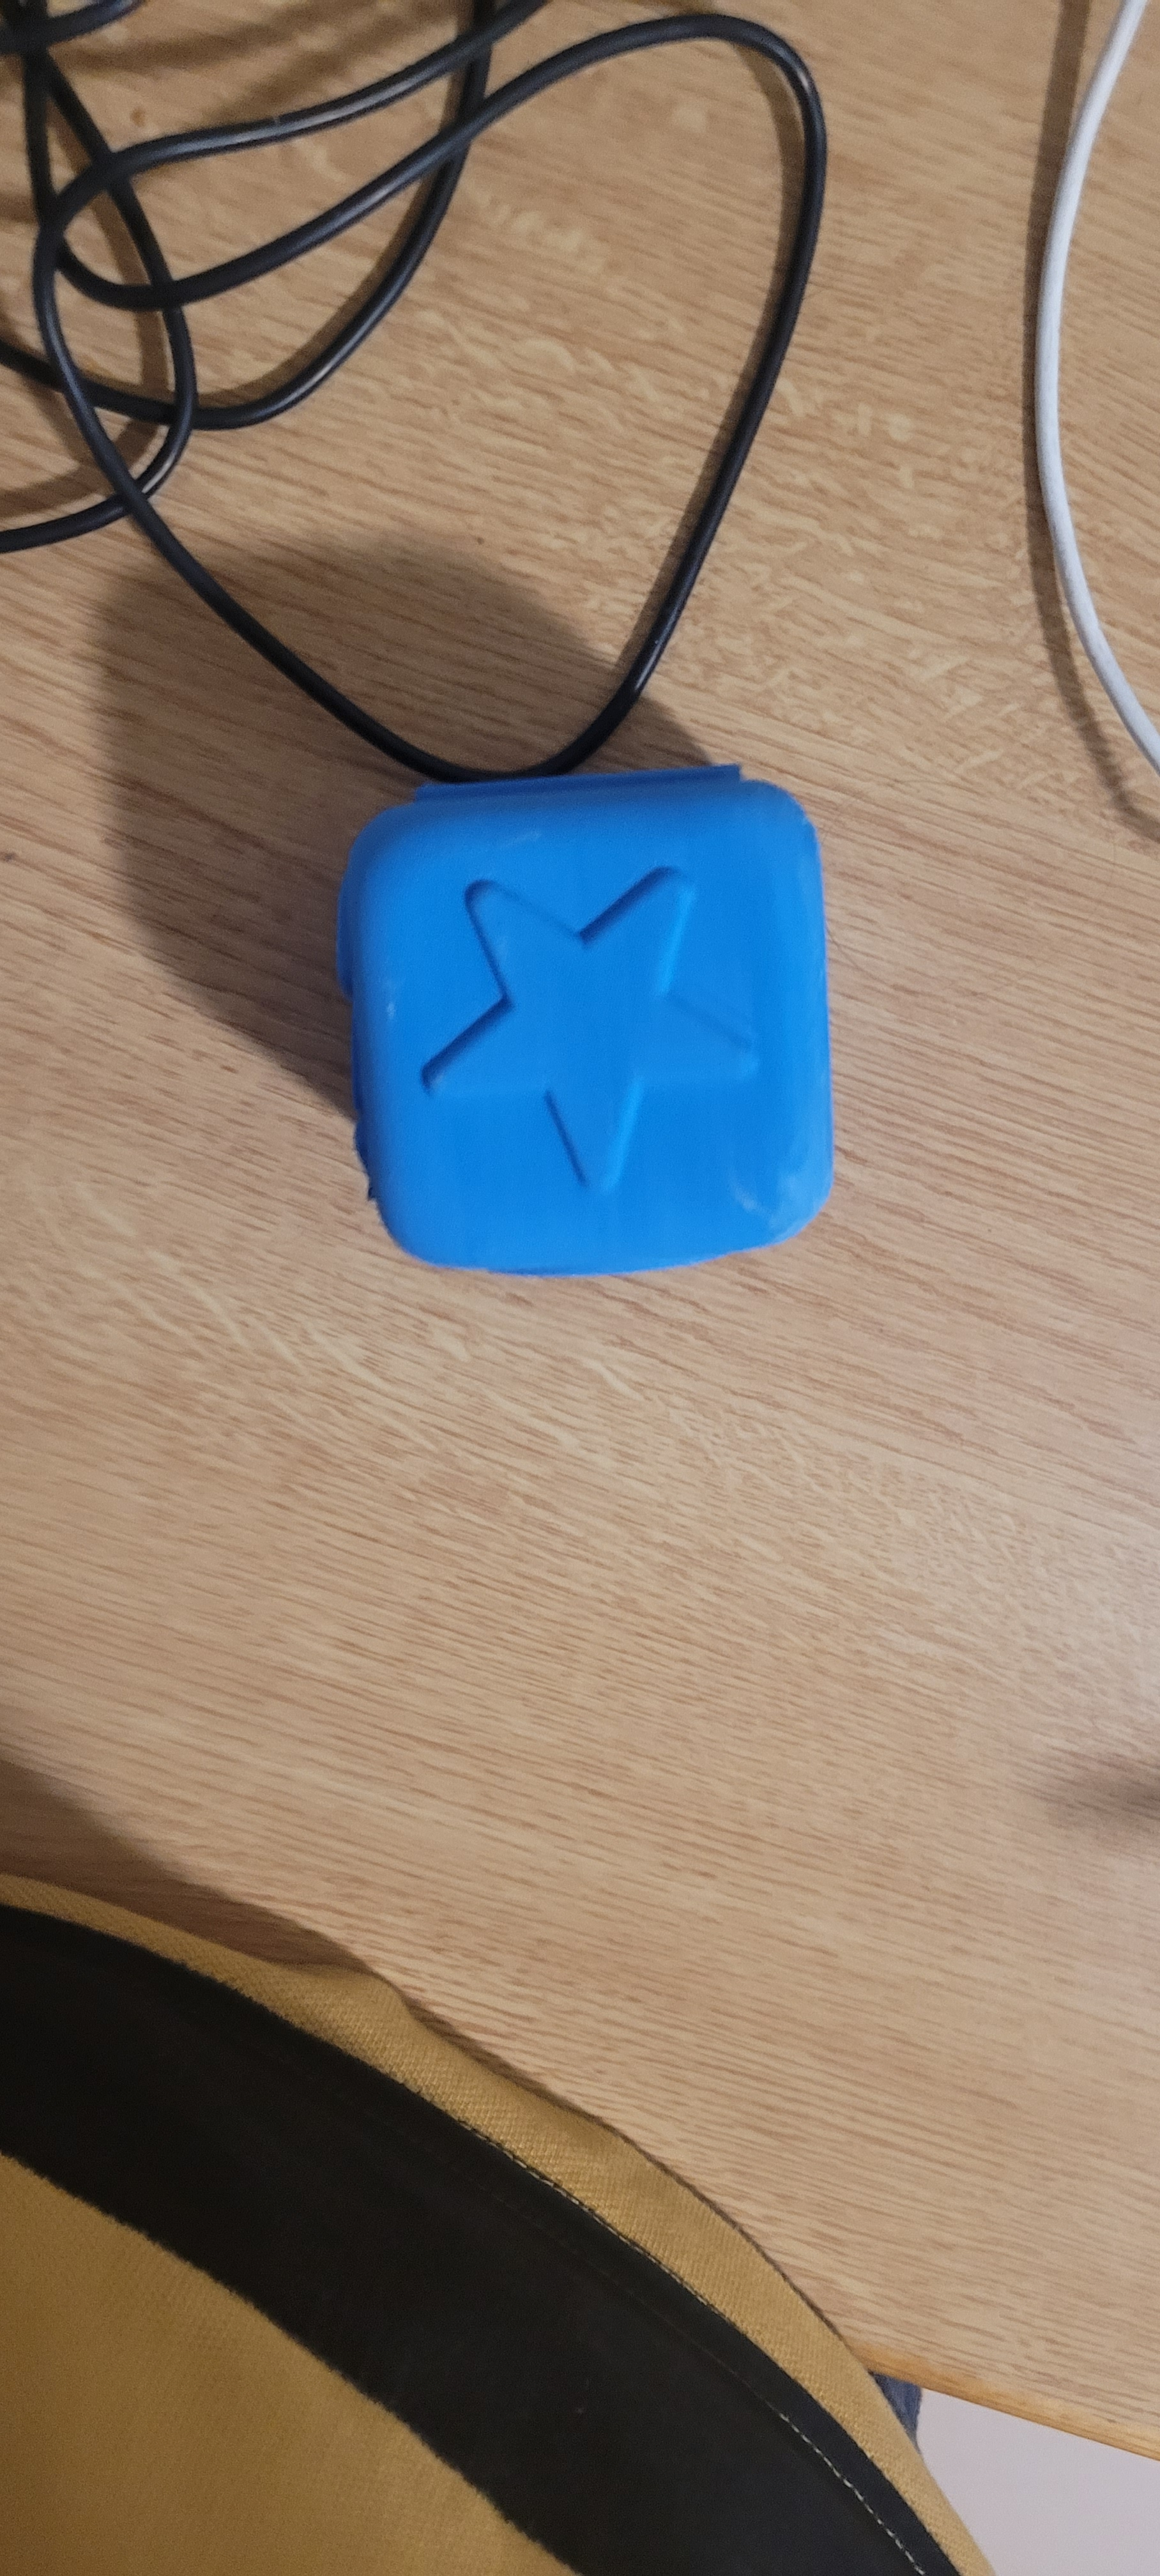Star: (347, 854, 833, 1211)
